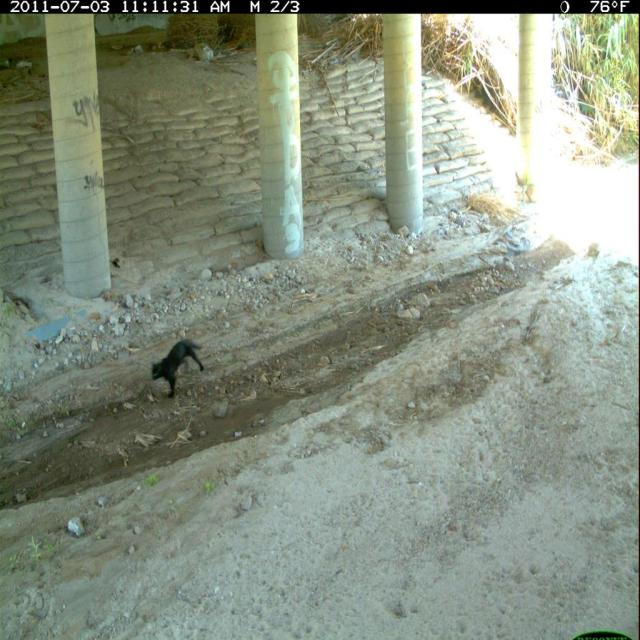cat: (150, 335, 208, 403)
